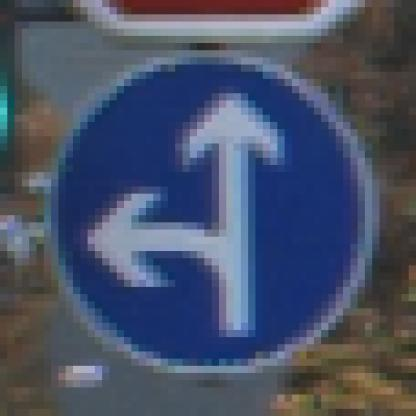Straight or Left: (38, 44, 381, 381)
